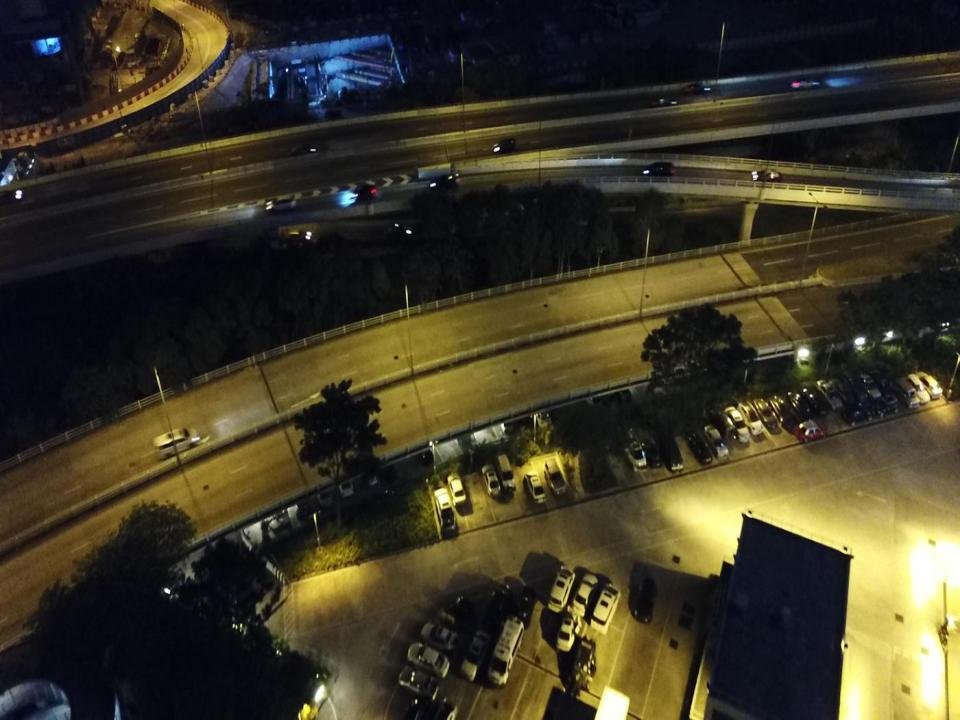car: (568, 634, 596, 699), (407, 641, 449, 679), (398, 664, 440, 702), (460, 630, 489, 680), (485, 582, 512, 629), (548, 567, 575, 612), (571, 572, 598, 616), (556, 611, 583, 655), (421, 620, 459, 650), (660, 428, 684, 472), (635, 577, 656, 623), (434, 488, 455, 532), (686, 428, 712, 463), (738, 399, 763, 435), (755, 398, 780, 434), (703, 425, 728, 460), (710, 405, 735, 440), (725, 407, 750, 442), (770, 395, 795, 430), (916, 368, 943, 398), (545, 459, 568, 494), (907, 373, 933, 403), (894, 380, 920, 409), (640, 432, 662, 466), (794, 420, 828, 442), (788, 388, 811, 420), (516, 585, 535, 623), (524, 470, 545, 504), (806, 386, 829, 416), (818, 380, 841, 410), (832, 374, 855, 404), (481, 463, 500, 497), (447, 472, 466, 506), (841, 406, 874, 425), (532, 397, 552, 428), (496, 403, 516, 434), (414, 434, 434, 465), (378, 448, 398, 479), (288, 486, 308, 517), (871, 368, 893, 396), (358, 455, 378, 485), (270, 496, 290, 526), (859, 373, 881, 400), (347, 183, 377, 201), (266, 195, 296, 212), (874, 396, 898, 416), (403, 699, 427, 719), (436, 697, 457, 719), (430, 174, 460, 189), (752, 169, 782, 183), (286, 145, 316, 158), (0, 190, 23, 205), (793, 78, 820, 90), (493, 139, 516, 153), (684, 84, 712, 95), (652, 98, 678, 108)
van: (488, 615, 525, 686), (590, 583, 620, 634), (156, 430, 200, 459), (621, 426, 647, 472), (843, 370, 868, 404), (496, 453, 516, 493), (334, 463, 354, 498), (314, 474, 332, 508), (643, 162, 674, 176)
